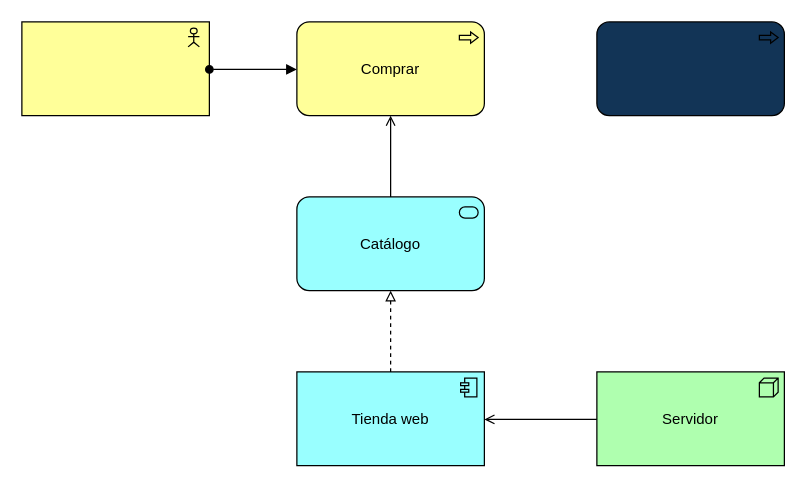
Some shapes in this 806 by 488 pixel diagram are drawn without their labels. Each missing label, with the centre of its shape:
"Cliente" belongs at (115,68).
"¿Proceso?" belongs at (690,68).
